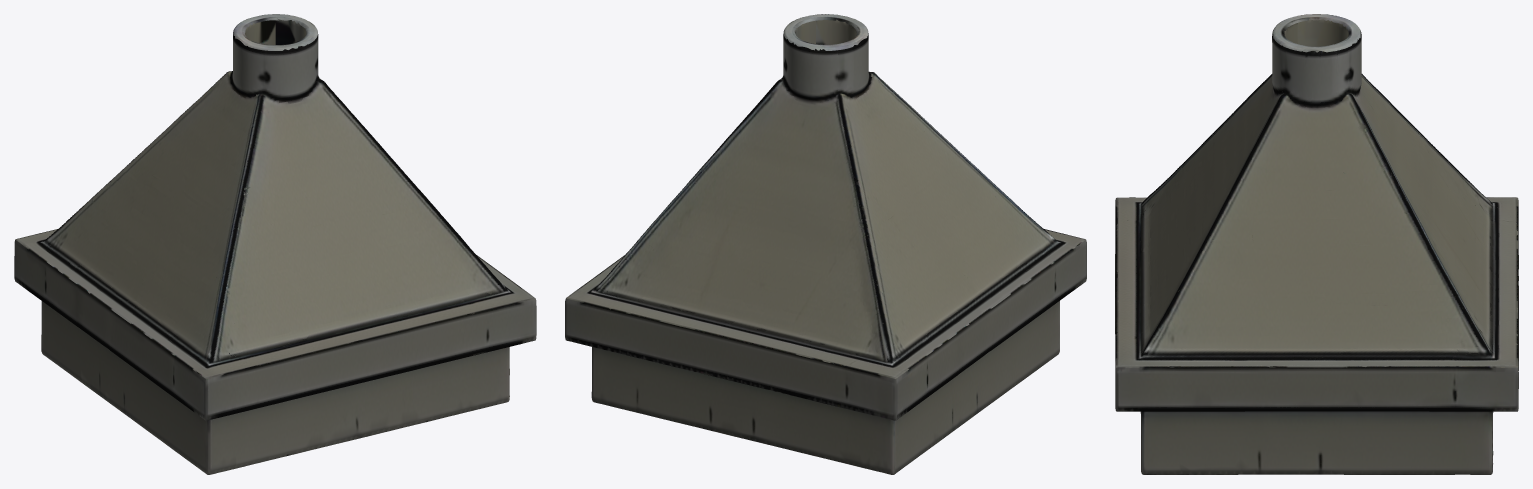
Rendered from roof-vent.glb.
3 views of the same model, side by side, from view 1: azimuth 30°, elevation 25°; view 2: azimuth 150°, elevation 25°; view 3: azimuth 270°, elevation 25° (orthographic). The views are drawn at different scales.
Parts seen in each view (by area): view 1: tmpb3q_h2yt.ply; view 2: tmpb3q_h2yt.ply; view 3: tmpb3q_h2yt.ply.
Part boxes in pixels (<box>): tmpb3q_h2yt.ply: <box>14,14,536,474</box>; tmpb3q_h2yt.ply: <box>565,14,1086,474</box>; tmpb3q_h2yt.ply: <box>1115,14,1518,474</box>.
Size of the model in its own units: 1 by 1 by 1.
Materials: 1 (1 with a texture image).
